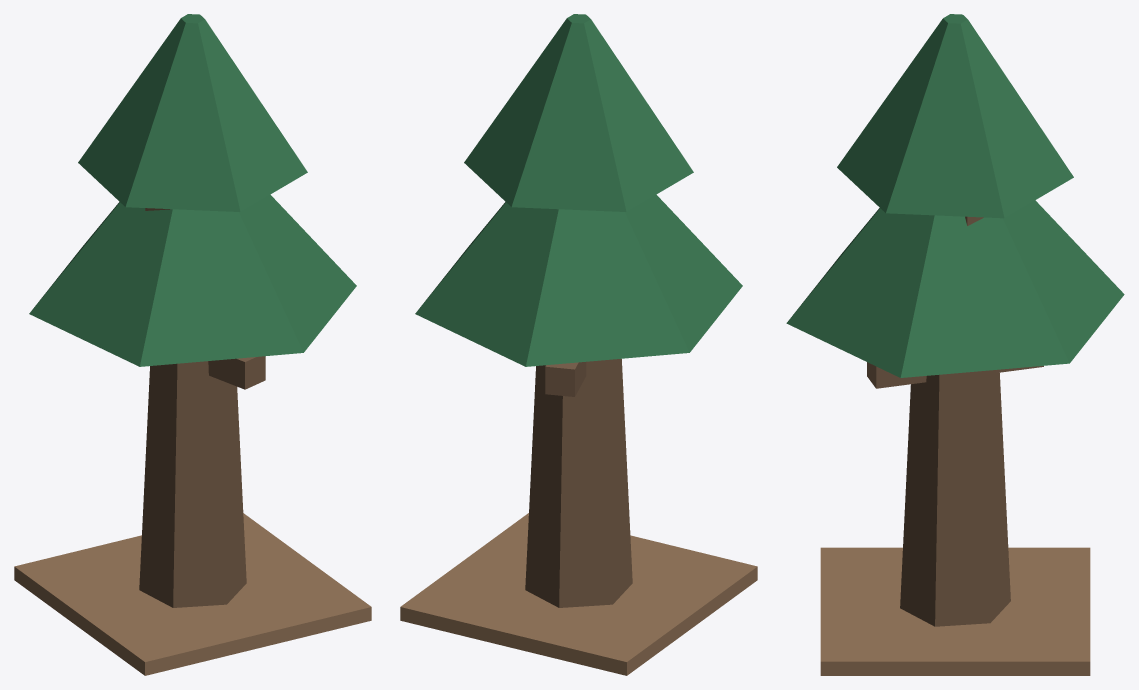
Rendered from df_dead_pine_a.glb.
The picture shows the model from 3 angles, left to right: view 1: azimuth 30°, elevation 25°; view 2: azimuth 150°, elevation 25°; view 3: azimuth 270°, elevation 25°; orthographic projection. The views are drawn at different scales.
Parts seen in each view (by area): view 1: dark_needles_low, dark_needles_top, footprint_shadow, dead_pine_trunk, jagged_branch_0; view 2: dark_needles_low, dark_needles_top, footprint_shadow, dead_pine_trunk, jagged_branch_0; view 3: dark_needles_low, dark_needles_top, footprint_shadow, dead_pine_trunk, jagged_branch_0.
Part boxes in pixels (x1=…): dark_needles_low: x1=29, y1=194, x2=356, y2=366; dark_needles_top: x1=78, y1=14, x2=307, y2=211; footprint_shadow: x1=14, y1=513, x2=371, y2=675; dead_pine_trunk: x1=139, y1=361, x2=246, y2=607; jagged_branch_0: x1=208, y1=356, x2=265, y2=389; dark_needles_low: x1=415, y1=194, x2=742, y2=366; dark_needles_top: x1=464, y1=14, x2=693, y2=211; footprint_shadow: x1=400, y1=513, x2=757, y2=675; dead_pine_trunk: x1=525, y1=358, x2=632, y2=607; jagged_branch_0: x1=545, y1=362, x2=586, y2=396; dark_needles_low: x1=786, y1=200, x2=1124, y2=377; dark_needles_top: x1=837, y1=14, x2=1073, y2=218; footprint_shadow: x1=820, y1=547, x2=1090, y2=675; dead_pine_trunk: x1=900, y1=370, x2=1010, y2=626; jagged_branch_0: x1=867, y1=362, x2=1043, y2=388.
Size of the model in its own units: 1.04 by 2.11 by 1.08.
